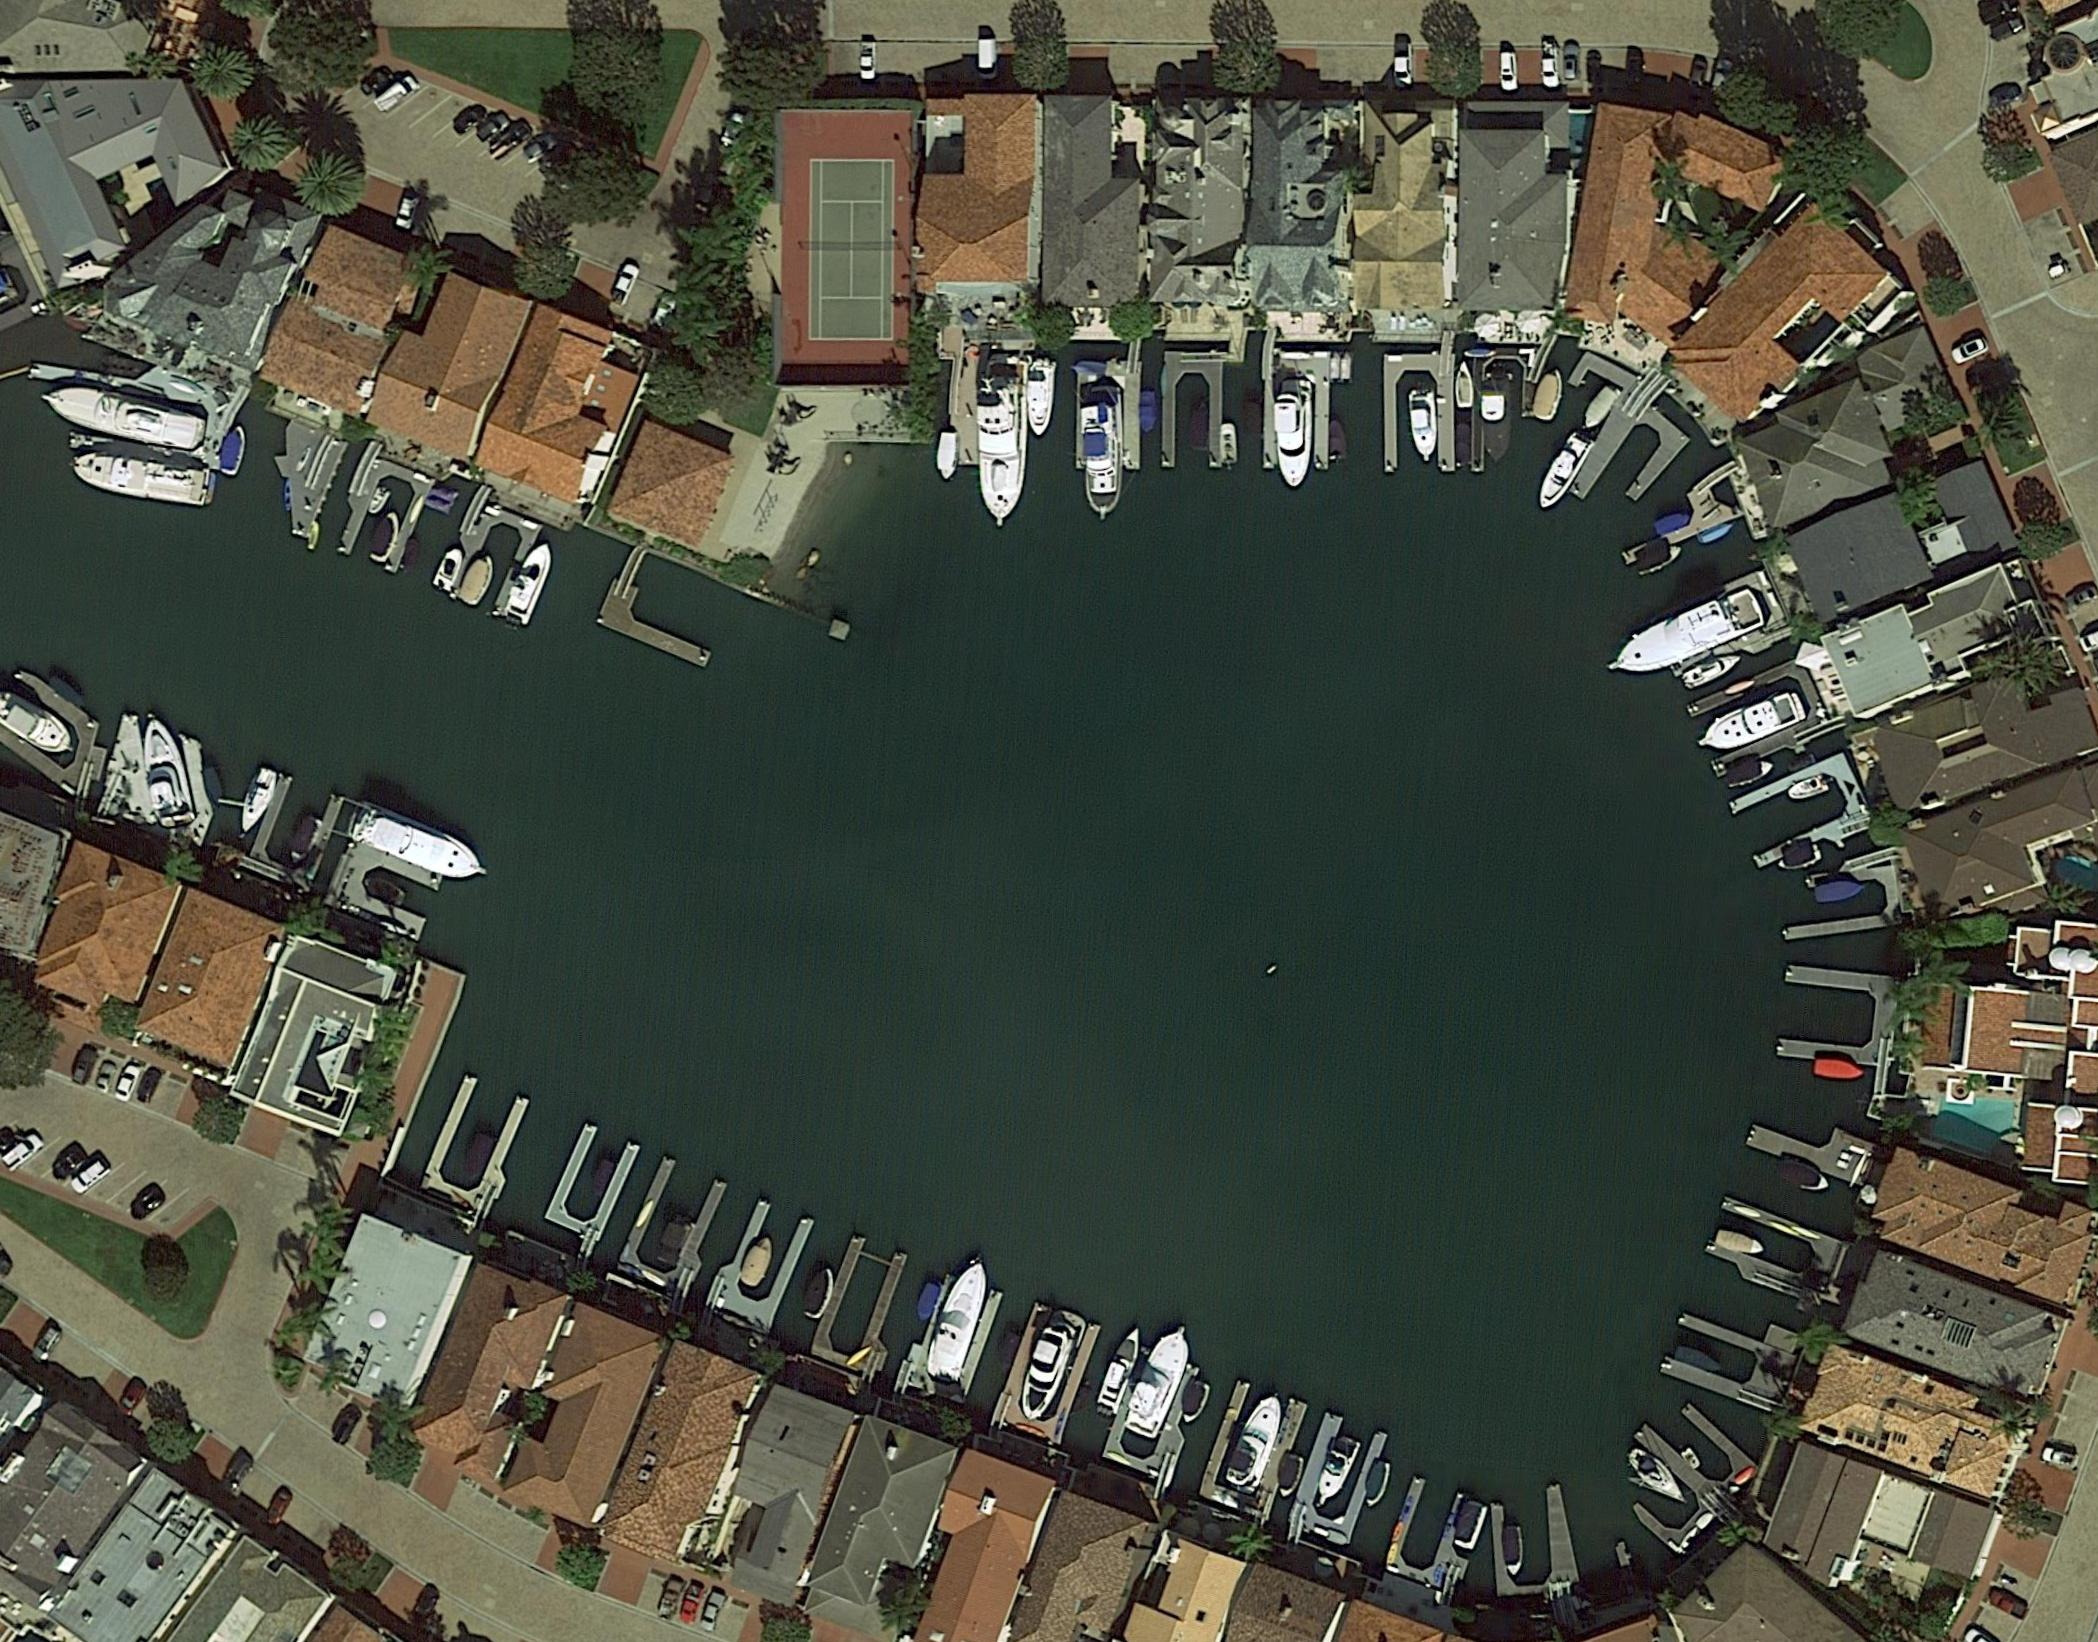harbor: (1519, 337, 1701, 537), (1599, 1388, 1763, 1555), (1728, 751, 1880, 882), (417, 1071, 542, 1225), (1688, 652, 1836, 778), (1659, 1293, 1807, 1417), (1700, 1194, 1844, 1315), (596, 545, 736, 669), (615, 1155, 736, 1298), (809, 1231, 923, 1381), (1654, 569, 1790, 690), (1197, 1378, 1310, 1524), (703, 1191, 816, 1335), (993, 1301, 1102, 1448), (1282, 1410, 1391, 1555), (325, 439, 439, 576), (894, 1271, 1003, 1412), (1102, 1347, 1209, 1489), (536, 1122, 644, 1260), (434, 487, 548, 617), (1383, 1473, 1492, 1599), (242, 772, 346, 894), (1776, 962, 1899, 1066), (322, 840, 444, 942), (1609, 472, 1742, 566), (1745, 1100, 1880, 1191), (245, 421, 347, 538), (1488, 1478, 1585, 1599), (1383, 342, 1456, 472), (1781, 865, 1904, 942), (1264, 346, 1330, 468), (1078, 349, 1144, 472), (1163, 351, 1224, 468)
ship: (1602, 586, 1769, 692), (349, 801, 496, 896), (36, 380, 211, 455), (923, 1255, 998, 1381), (1122, 1322, 1201, 1441), (1012, 1308, 1088, 1426), (1693, 686, 1809, 761), (68, 451, 208, 509), (977, 380, 1032, 523), (1224, 1390, 1291, 1494), (136, 715, 196, 828), (0, 688, 82, 765), (1529, 429, 1597, 514), (1081, 387, 1122, 521), (502, 538, 560, 629), (1623, 1444, 1694, 1513), (1097, 1323, 1148, 1415), (1308, 1434, 1362, 1511), (1275, 380, 1311, 492), (237, 766, 279, 838), (1681, 647, 1747, 692), (1483, 373, 1514, 463), (1773, 1157, 1837, 1199), (456, 550, 501, 610), (1577, 382, 1625, 434), (1408, 390, 1442, 462), (737, 1231, 778, 1289), (1025, 359, 1056, 436), (799, 1266, 840, 1322), (368, 508, 405, 566), (284, 812, 325, 865), (1631, 542, 1684, 581), (1533, 366, 1568, 422), (1449, 1501, 1488, 1552), (460, 1129, 497, 1180), (431, 545, 468, 594), (361, 874, 410, 911), (1362, 1456, 1395, 1511), (1722, 760, 1774, 792), (1178, 1380, 1212, 1429), (1672, 1344, 1723, 1376), (220, 426, 250, 479), (1717, 1230, 1769, 1260), (1812, 877, 1870, 904), (1778, 841, 1824, 876), (1275, 1455, 1306, 1502), (935, 431, 962, 480), (588, 1160, 620, 1201), (1185, 400, 1211, 451), (914, 1279, 943, 1323), (199, 765, 226, 811), (1502, 1526, 1526, 1577), (1786, 777, 1829, 804), (1814, 1058, 1865, 1080), (1694, 521, 1734, 548), (1327, 419, 1350, 463), (1652, 509, 1689, 537), (1218, 422, 1241, 465), (364, 484, 393, 518), (1456, 363, 1475, 409), (1139, 392, 1156, 436), (400, 538, 422, 571), (1677, 1446, 1705, 1472)
